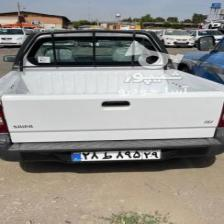plate: (70, 148, 162, 162)
